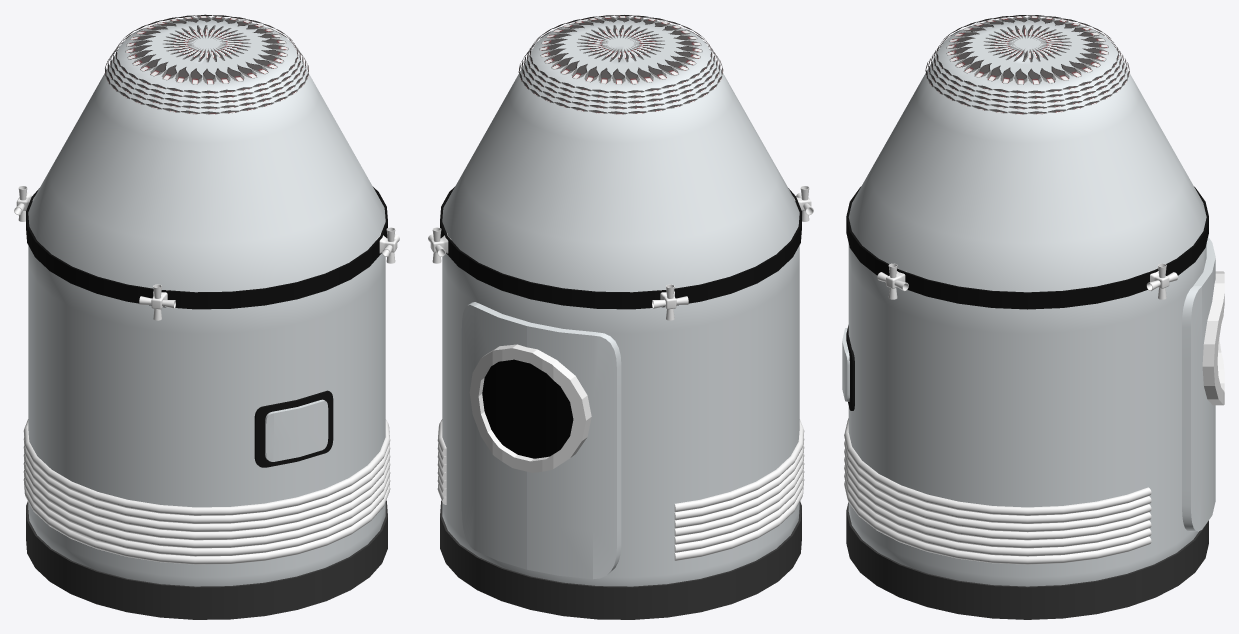
File: spaceship.fbx
3 renders of one model, left to right at view 1: azimuth 30°, elevation 25°; view 2: azimuth 150°, elevation 25°; view 3: azimuth 270°, elevation 25°, orthographic.
Visible parts, largest first — view 1: body, three-quarter_ring, ring2, apex, ring1, tank1, tank2, nozzle; view 2: body, Door, ring2, apex, three-quarter_ring, Glass, ring1, window, nozzle; view 3: body, three-quarter_ring, ring2, apex, Door, ring1, window, nozzle.
Boxes of the visible parts, x1,y1,x2,y2 form: body: [28, 17, 385, 586]; three-quarter_ring: [23, 419, 390, 564]; ring2: [26, 500, 387, 619]; apex: [105, 14, 308, 114]; ring1: [26, 187, 387, 309]; tank1: [265, 399, 328, 461]; tank2: [254, 390, 333, 467]; nozzle: [14, 186, 399, 320]; body: [442, 17, 799, 586]; Door: [461, 302, 621, 579]; ring2: [440, 500, 801, 619]; apex: [518, 15, 723, 114]; three-quarter_ring: [437, 419, 804, 560]; Glass: [482, 359, 573, 458]; ring1: [440, 187, 801, 309]; window: [469, 344, 591, 472]; nozzle: [428, 186, 813, 320]; body: [848, 17, 1206, 586]; three-quarter_ring: [844, 418, 1151, 564]; ring2: [846, 502, 1208, 619]; apex: [925, 15, 1129, 114]; Door: [1182, 237, 1215, 531]; ring1: [846, 186, 1208, 309]; window: [1202, 271, 1224, 405]; nozzle: [877, 263, 1177, 299].
Bounding box in the file's own units: 41 × 61.55 × 42.7.
